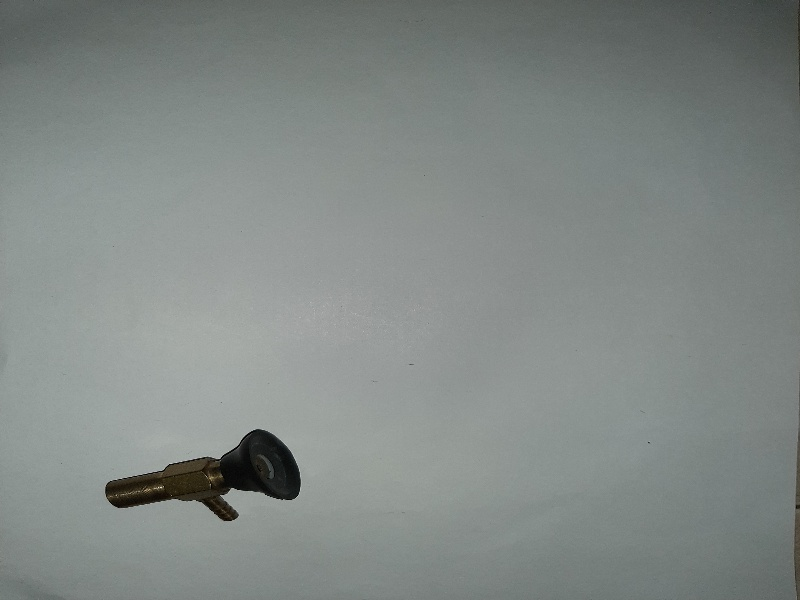Joint Hold: (102, 423, 305, 524)
